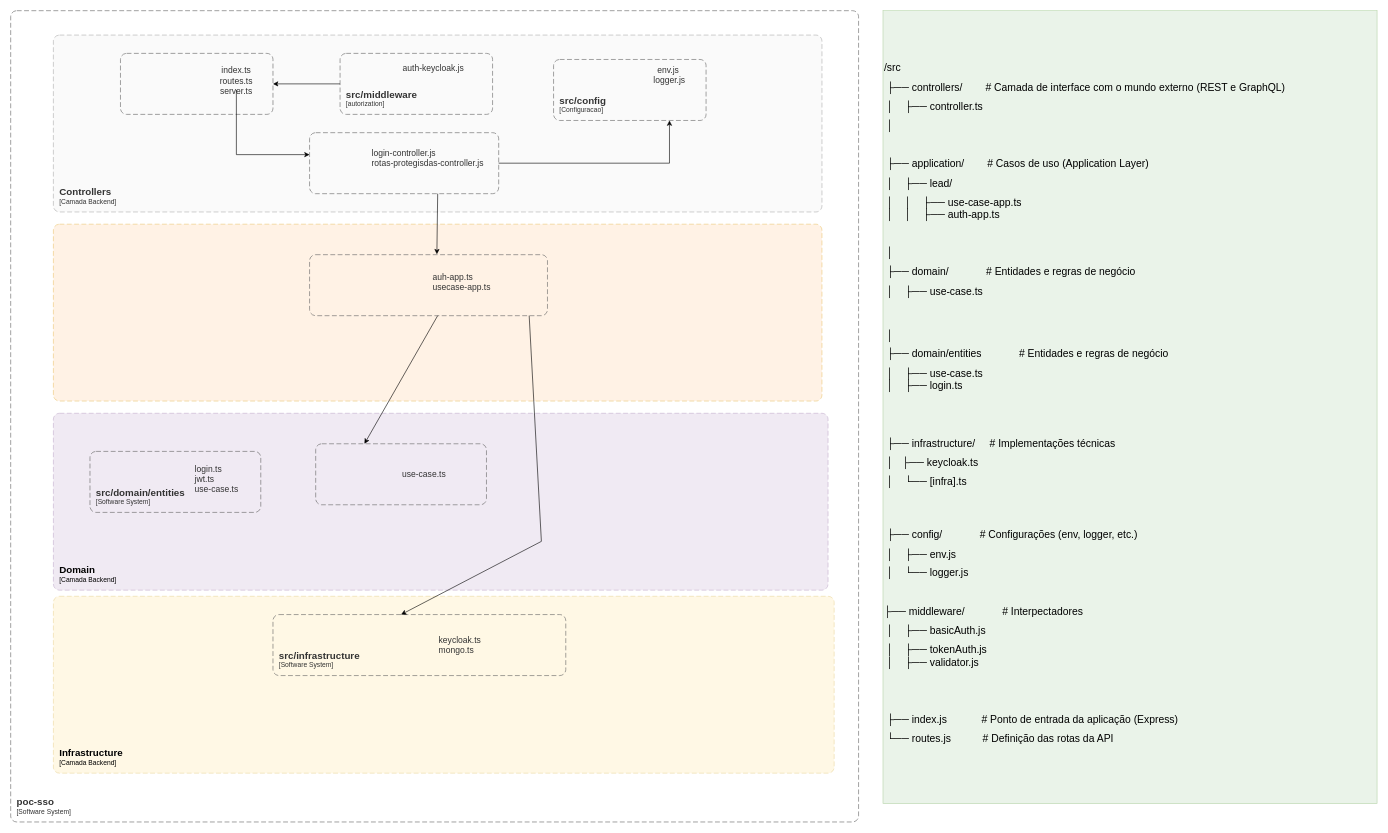
Some shapes in this 1388 by 833 pixel diagram are drawn without their labels. The box of each missing label's shape, as (x1, y1, x2, y2) in pixels:
Aplication [Camada Backend]: (53, 224, 822, 401)
src [Raiz-Orquestração]: (120, 53, 273, 114)
src/application [Software System]: (309, 254, 547, 316)
src/controllers [Software System]: (309, 132, 499, 194)
src/domain [Software System]: (315, 443, 486, 505)
